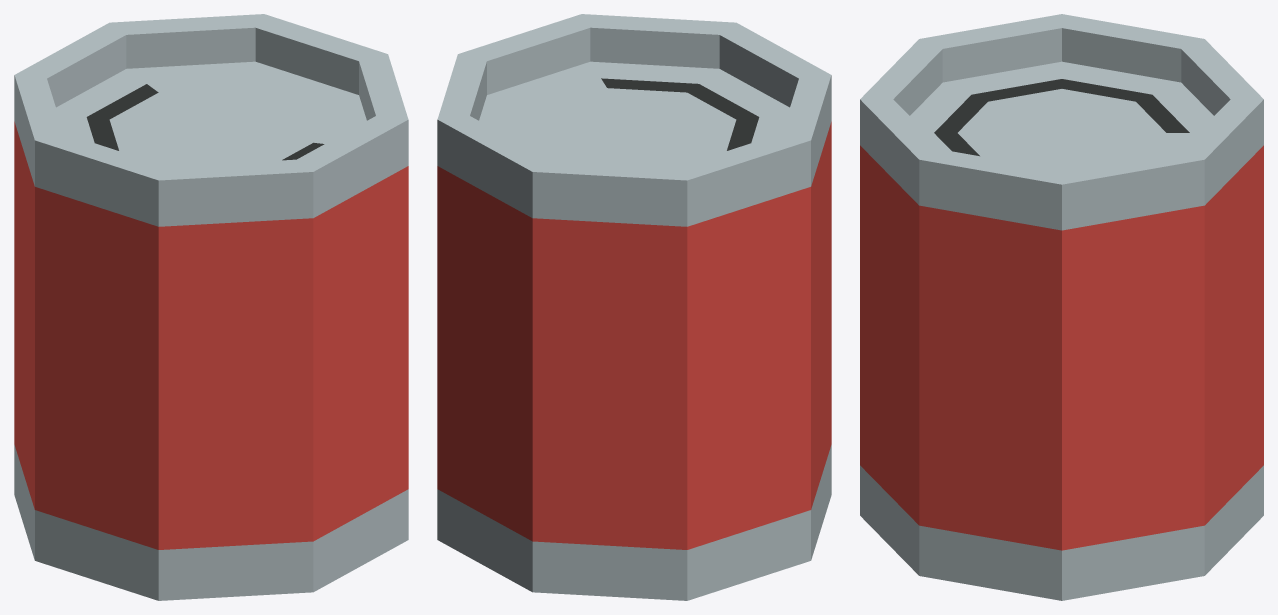
The model's file is can.fbx.
The picture shows the model from 3 angles, left to right: view 1: azimuth 30°, elevation 25°; view 2: azimuth 150°, elevation 25°; view 3: azimuth 270°, elevation 25°; orthographic projection.
Visible parts, largest first — view 1: Cylinder; view 2: Cylinder; view 3: Cylinder.
Part boxes in pixels (x1,y1,x2,y2): Cylinder: (14, 14, 408, 600); Cylinder: (437, 14, 831, 600); Cylinder: (860, 14, 1263, 600).
Size of the model in its own units: 113 by 129 by 113.
